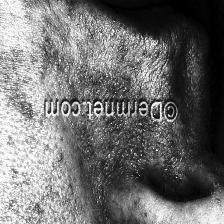Non-Cancerous Skin Condition: (55, 129, 211, 224), (0, 0, 107, 103)
